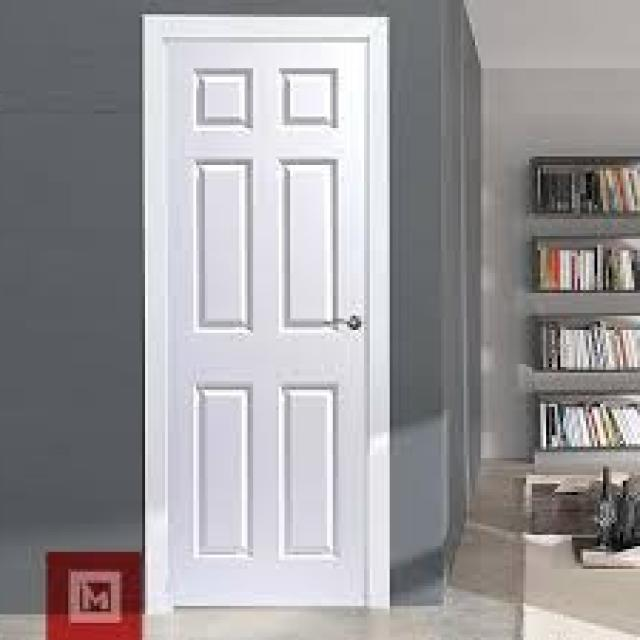door: (147, 13, 386, 610)
